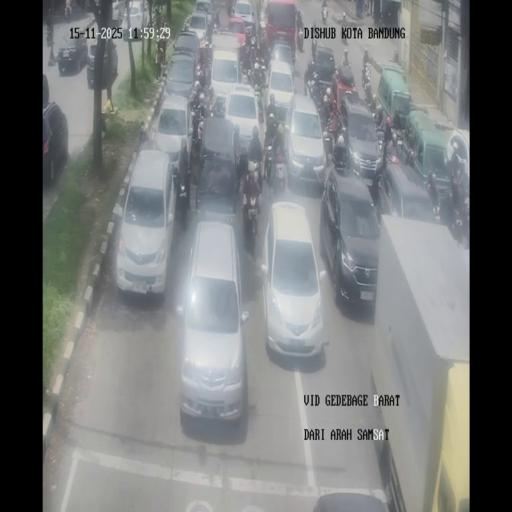3: (368, 215, 467, 506), (377, 67, 411, 128), (265, 0, 298, 61)
car: (176, 223, 248, 424), (261, 202, 325, 362), (115, 149, 175, 298), (322, 165, 380, 310), (283, 94, 327, 192), (379, 154, 438, 224), (338, 93, 382, 186), (152, 94, 193, 182), (41, 100, 68, 185), (209, 44, 243, 105), (163, 51, 199, 106), (266, 60, 296, 124), (304, 46, 337, 102), (87, 39, 119, 89), (56, 32, 88, 75), (121, 1, 145, 39), (227, 15, 249, 49), (195, 0, 212, 17)
truck: (375, 117, 402, 164), (175, 174, 191, 230), (450, 184, 464, 244), (242, 196, 258, 247), (194, 41, 212, 86), (190, 114, 206, 164), (196, 84, 216, 120), (370, 162, 384, 212), (236, 145, 249, 192), (326, 112, 340, 153), (264, 140, 275, 185), (252, 61, 266, 93), (254, 86, 265, 125), (241, 44, 253, 76), (256, 34, 268, 66), (265, 113, 278, 141), (320, 93, 331, 126), (362, 60, 372, 96), (405, 139, 416, 168), (214, 96, 228, 118), (46, 8, 54, 45), (113, 1, 124, 26), (258, 5, 268, 32), (206, 11, 214, 41), (296, 21, 304, 51), (367, 91, 377, 114), (374, 105, 384, 128), (212, 6, 220, 31), (321, 5, 329, 26), (342, 46, 350, 67), (311, 35, 317, 61), (251, 18, 258, 40), (226, 0, 235, 17), (181, 17, 189, 33), (64, 4, 72, 19), (362, 0, 369, 16), (292, 47, 297, 69), (342, 11, 346, 25), (312, 19, 316, 33)
